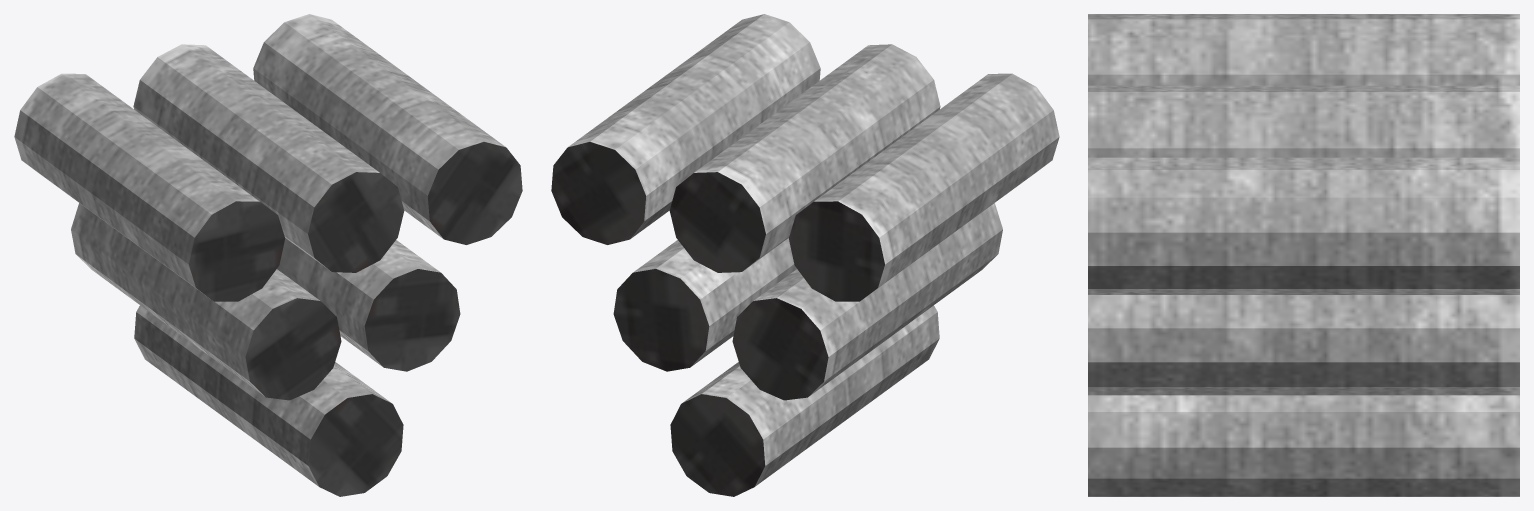
The model's file is RawM.obj.
3 views of the same model, side by side, from view 1: azimuth 30°, elevation 25°; view 2: azimuth 150°, elevation 25°; view 3: azimuth 270°, elevation 25° (orthographic). The views are drawn at different scales.
Parts seen in each view (by area): view 1: Cylinder.002_Cylinder.021; view 2: Cylinder.002_Cylinder.021; view 3: Cylinder.002_Cylinder.021.
Part boxes in pixels (left/top/right/bottom): Cylinder.002_Cylinder.021: left=14, top=14, right=522, bottom=496; Cylinder.002_Cylinder.021: left=551, top=14, right=1059, bottom=496; Cylinder.002_Cylinder.021: left=1088, top=14, right=1519, bottom=496.
Size of the model in its own units: 0.4759 by 0.4401 by 0.4309.
Materials: 1 (1 with a texture image).
